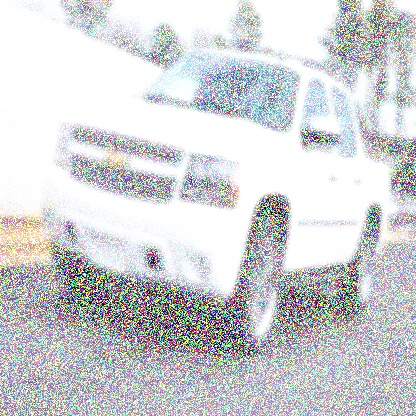Vehicle: (38, 44, 396, 368)
